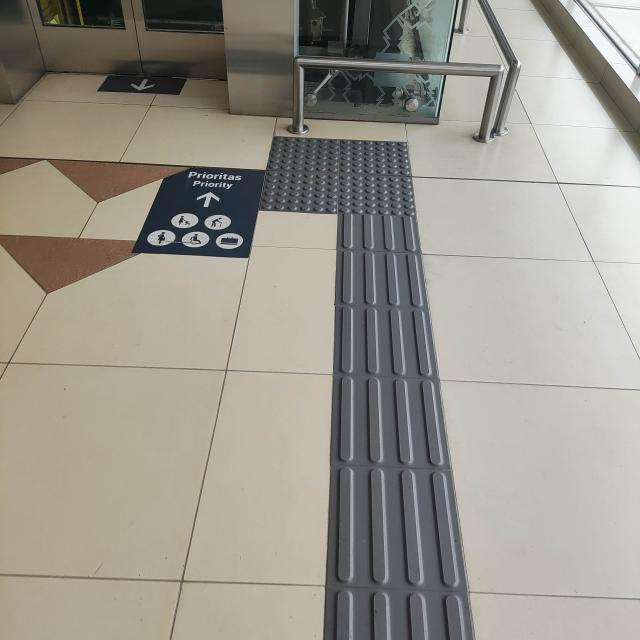lurus: (321, 205, 440, 640)
